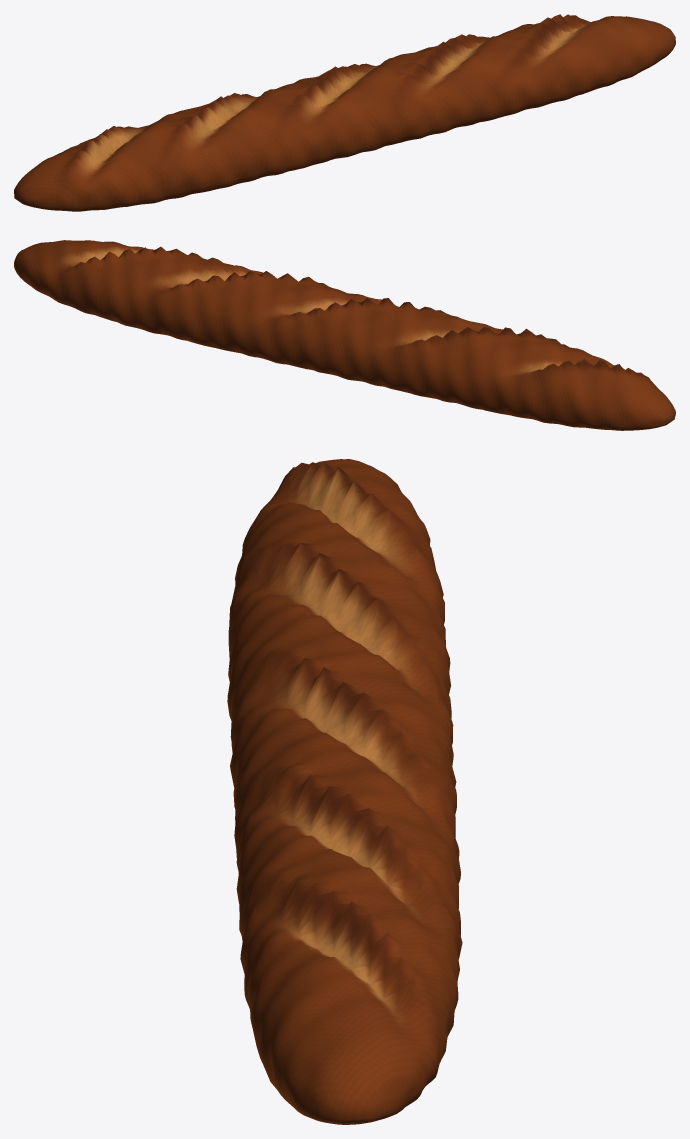
Rendered from NEW359_baguette_LOD1.glb.
3 views of the same model, one above another, from view 1: azimuth 30°, elevation 25°; view 2: azimuth 150°, elevation 25°; view 3: azimuth 270°, elevation 25° (orthographic). The views are drawn at different scales.
Visible parts, largest first — view 1: Whole_baguette_closed_baked_shell; view 2: Whole_baguette_closed_baked_shell; view 3: Whole_baguette_closed_baked_shell.
Boxes of the visible parts, box(x1,y1,x2,y2) form: Whole_baguette_closed_baked_shell: box(14, 14, 675, 211); Whole_baguette_closed_baked_shell: box(14, 240, 675, 430); Whole_baguette_closed_baked_shell: box(227, 459, 462, 1124).
Size of the model in its own units: 0.54 by 0.0545 by 0.0834.
1 material, 1 textured.
